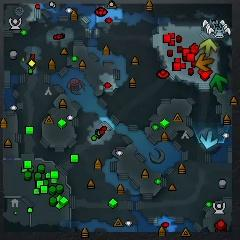x2: (200, 39, 217, 56)
x3: (201, 131, 218, 149)
x4: (210, 74, 228, 92)
x5: (196, 53, 214, 71)
